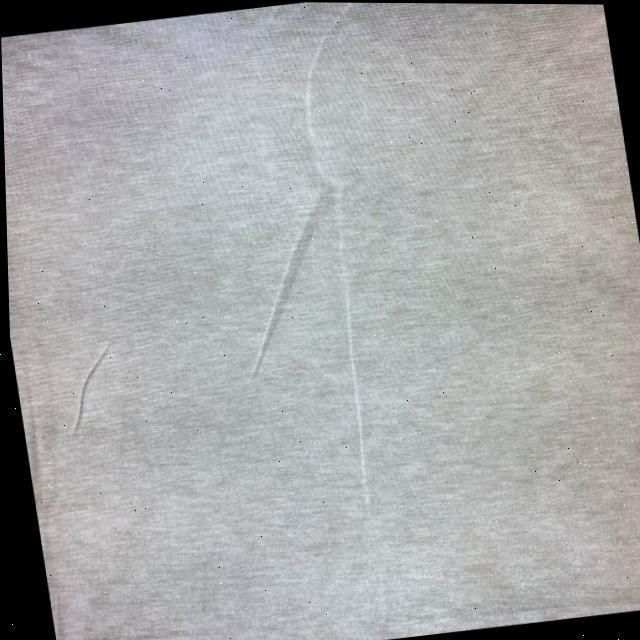broken_yarn: (241, 199, 315, 381), (65, 342, 111, 438)
